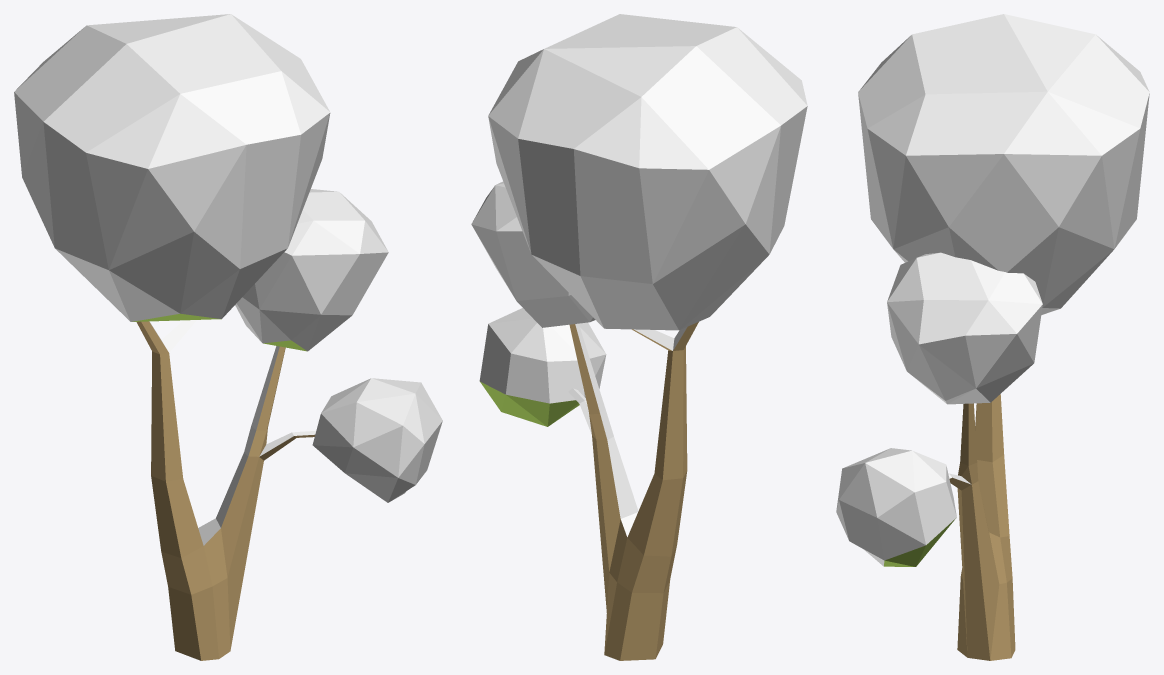
The model's file is Simple_Tree_m_Snow_02.fbx.
3 views of the same model, side by side, from view 1: azimuth 30°, elevation 25°; view 2: azimuth 150°, elevation 25°; view 3: azimuth 270°, elevation 25° (orthographic). The views are drawn at different scales.
Parts seen in each view (by area): view 1: Simple_Tree_m_Snow_02; view 2: Simple_Tree_m_Snow_02; view 3: Simple_Tree_m_Snow_02.
Boxes of the visible parts, x1,y1,x2,y2 form: Simple_Tree_m_Snow_02: (14, 14, 442, 660); Simple_Tree_m_Snow_02: (471, 14, 807, 660); Simple_Tree_m_Snow_02: (836, 14, 1149, 660).
Size of the model in its own units: 519 by 911 by 429.
